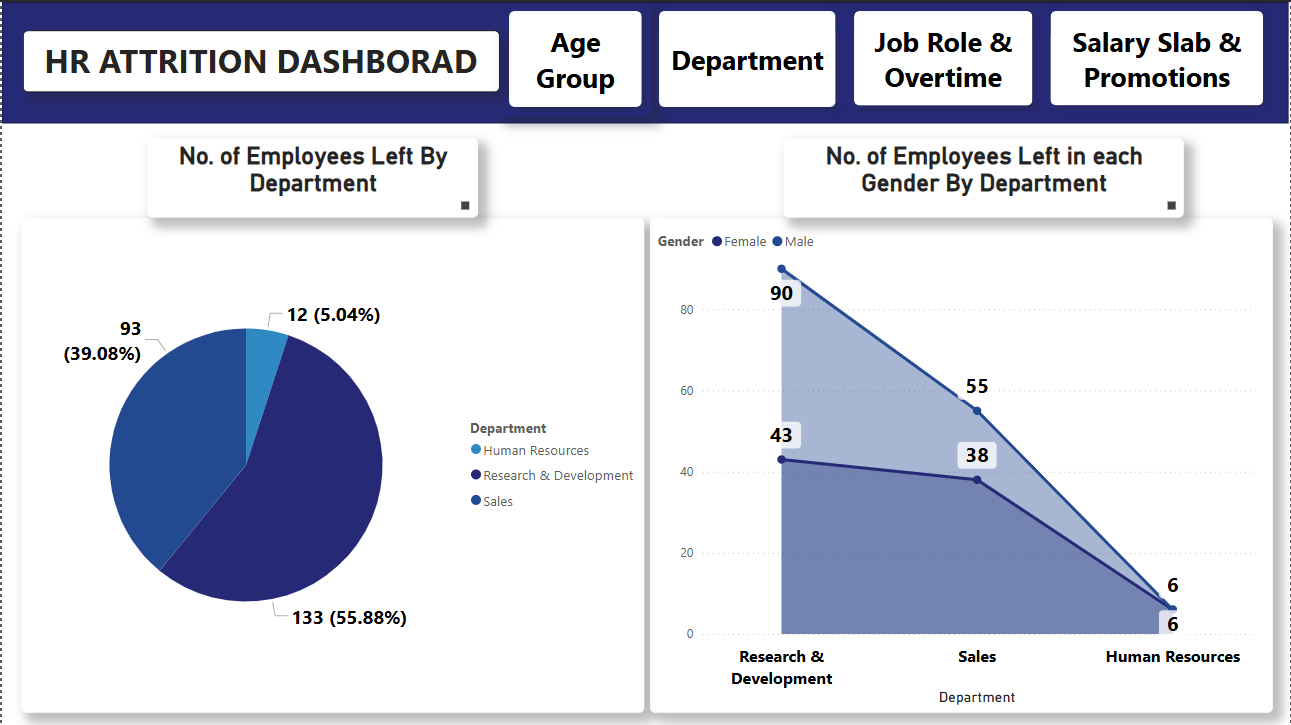

The page's visual inventory and layout, read from the dashboard file:
{"tool":"powerbi","page":{"name":"Department ","canvas":[1280,720],"ordinal":1},"visuals":[{"type":"group","id":"g1","title":"Group 1","box":[0,0,1279.4,120.6],"z":0},{"type":"shape","box":[0,0,1279.4,120.6],"z":0,"group":"g1"},{"type":"textbox","title":"HR ATTRITION DASHBOARD","box":[21.2,28.9,473.7,61.6],"z":1000,"group":"g1"},{"type":"pieChart","fields":{"Y":["Sum(HR_Attrition.Attrition_Numeric)"],"Category":["HR_Attrition.Department"]},"box":[19.7,215,619.3,492.1],"z":1000},{"type":"actionButton","title":"Age Group","box":[494.9,0,150.2,113.6],"z":2000,"group":"g1"},{"type":"areaChart","fields":{"Category":["HR_Attrition.Department"],"Series":["HR_Attrition.Gender"],"Y":["Sum(HR_Attrition.Attrition_Numeric)"]},"box":[645.1,215,619.3,492.1],"z":2000},{"type":"actionButton","title":"Department & Job Role","box":[645.1,0,193.8,113.6],"z":3000,"group":"g1"},{"type":"textbox","title":"No. of Employees Left By Department","box":[145.4,136.3,328.6,78.7],"z":3000},{"type":"actionButton","title":"Department & Job Role","box":[838.9,0,195.3,112.1],"z":4000,"group":"g1"},{"type":"textbox","title":"No. of Employees Left in each Gender By Department","box":[776.8,136.3,398.2,78.7],"z":4000},{"type":"actionButton","title":"Department & Job Role","box":[1034.2,0,229.2,111.7],"z":5000,"group":"g1"}]}

Visuals, with their boxes in screenshot pixels (x1, y1, x2, y2), scaled from the page's 1280x720 canvas onto the 1291x725 screenshot:
"Group 1" group: box(0, 0, 1290, 121)
shape: box(0, 0, 1290, 121)
"HR ATTRITION DASHBOARD" textbox: box(21, 29, 499, 91)
pieChart - Sum(HR_Attrition.Attrition_Numeric) x HR_Attrition.Department: box(20, 216, 644, 712)
"Age Group" actionButton: box(499, 0, 651, 114)
areaChart - HR_Attrition.Department x HR_Attrition.Gender: box(651, 216, 1275, 712)
"Department & Job Role" actionButton: box(651, 0, 846, 114)
"No. of Employees Left By Department" textbox: box(147, 137, 478, 216)
"Department & Job Role" actionButton: box(846, 0, 1043, 113)
"No. of Employees Left in each Gender By Department" textbox: box(783, 137, 1185, 216)
"Department & Job Role" actionButton: box(1043, 0, 1274, 112)
